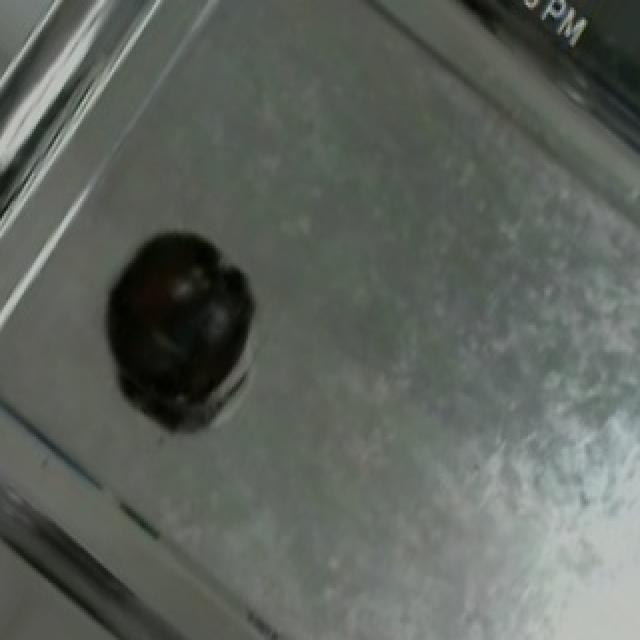Fruit: (84, 213, 264, 427)
